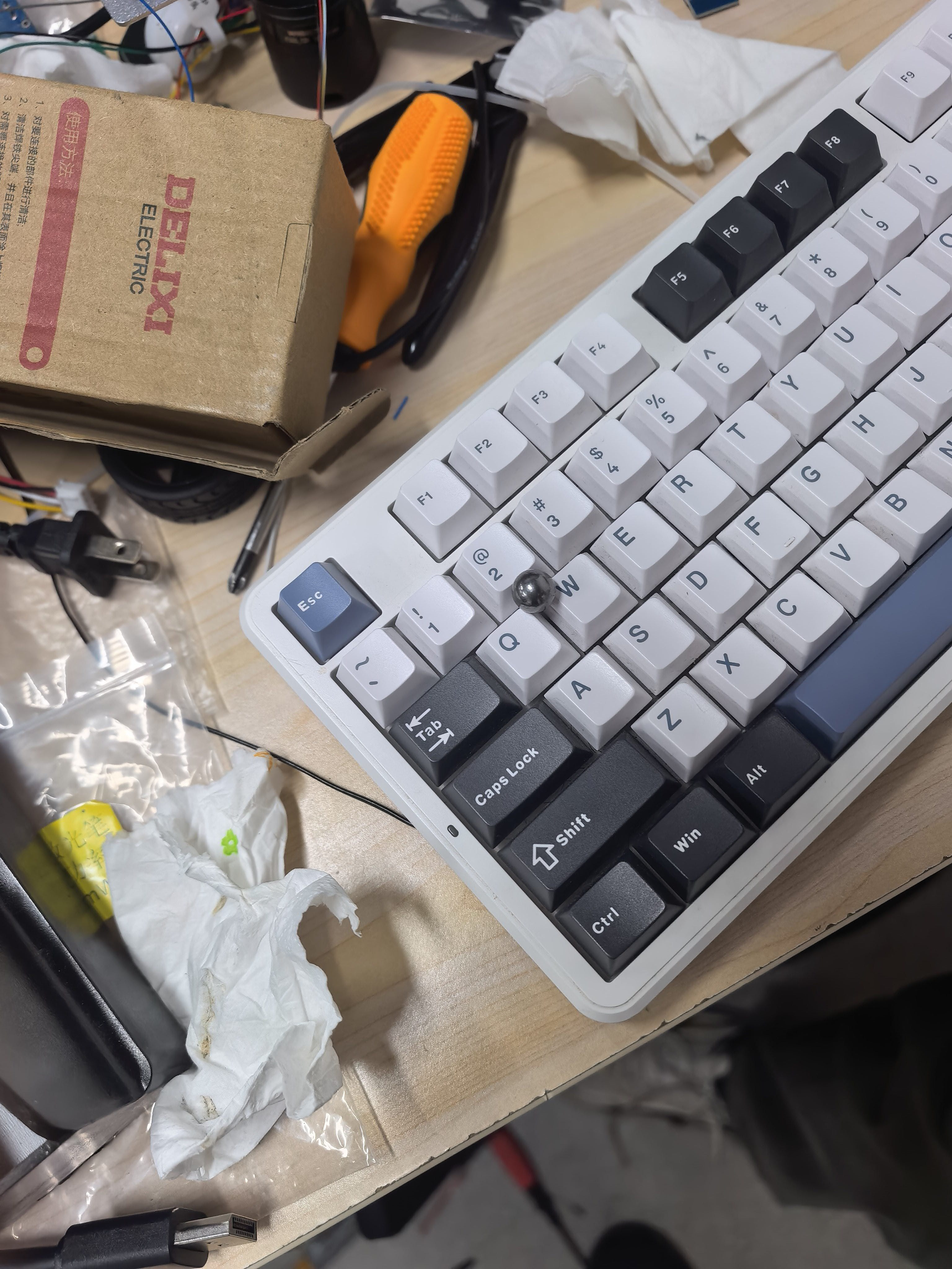ball: (508, 565, 556, 619)
